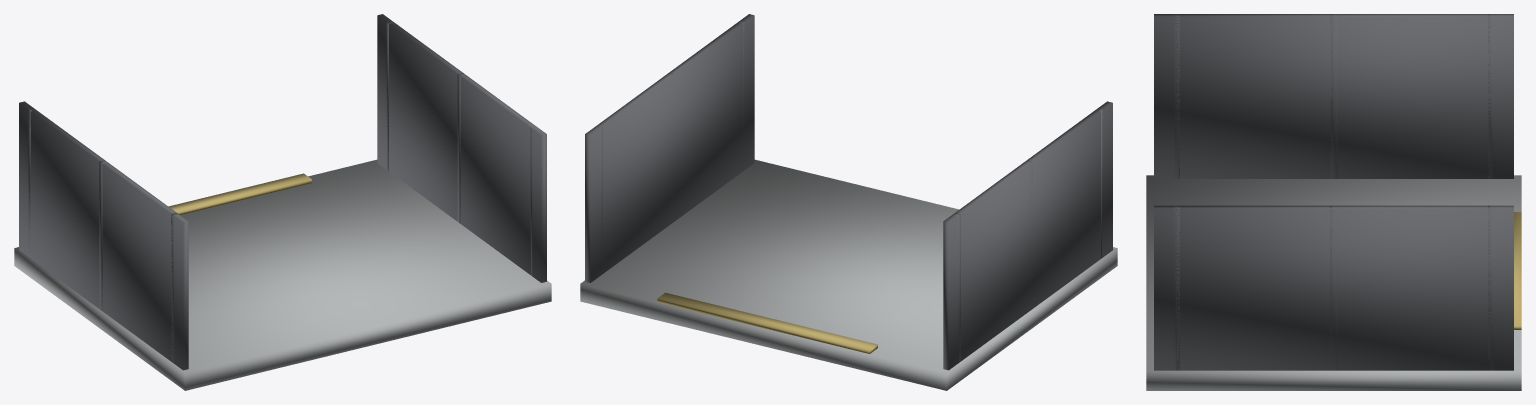
File: floor_w260_d210_sides.glb
The picture shows the model from 3 angles, left to right: view 1: azimuth 30°, elevation 25°; view 2: azimuth 150°, elevation 25°; view 3: azimuth 270°, elevation 25°; orthographic projection. The views are drawn at different scales.
Visible parts, largest first — view 1: world; view 2: world; view 3: world.
Part boxes in pixels (x1=…): world: x1=14, y1=14, x2=551, y2=390; world: x1=580, y1=14, x2=1117, y2=390; world: x1=1146, y1=14, x2=1521, y2=390.
Bounding box in the file's own units: 2.6 × 1.12 × 2.1.
